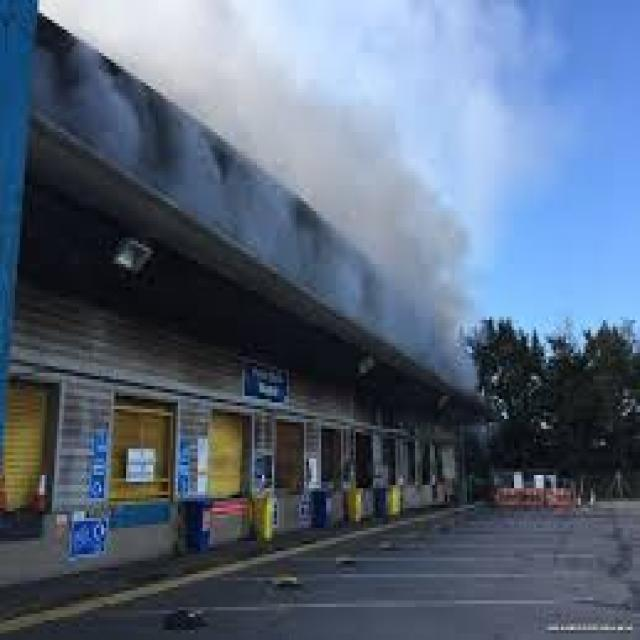Smoke: (31, 0, 480, 393)
